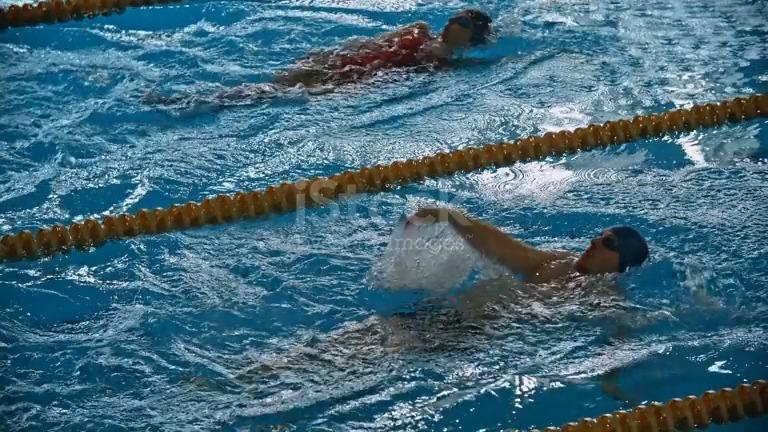Swimming: (221, 146, 674, 384), (138, 7, 498, 114)
